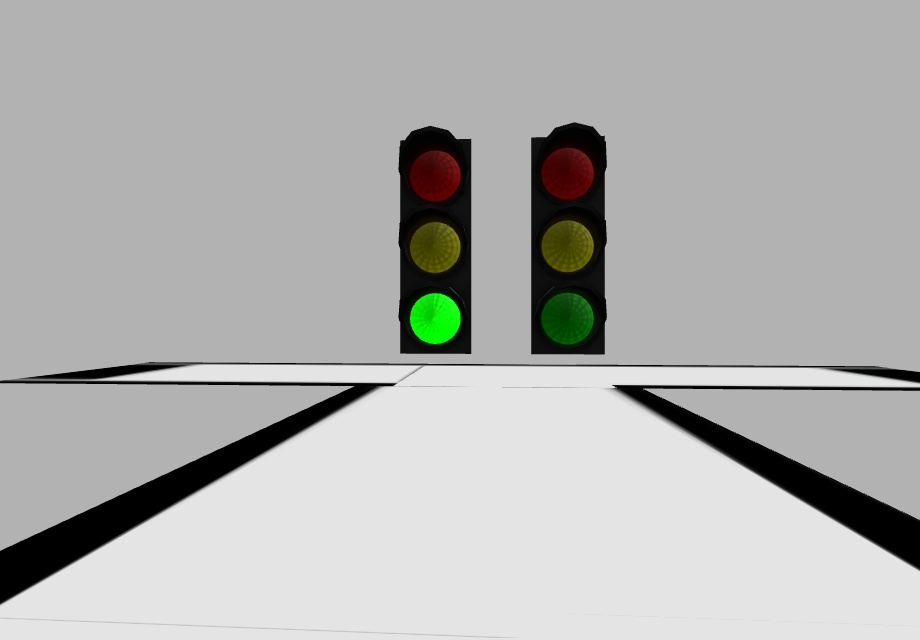green_off: (540, 293, 593, 346)
green_on: (408, 290, 461, 345)
